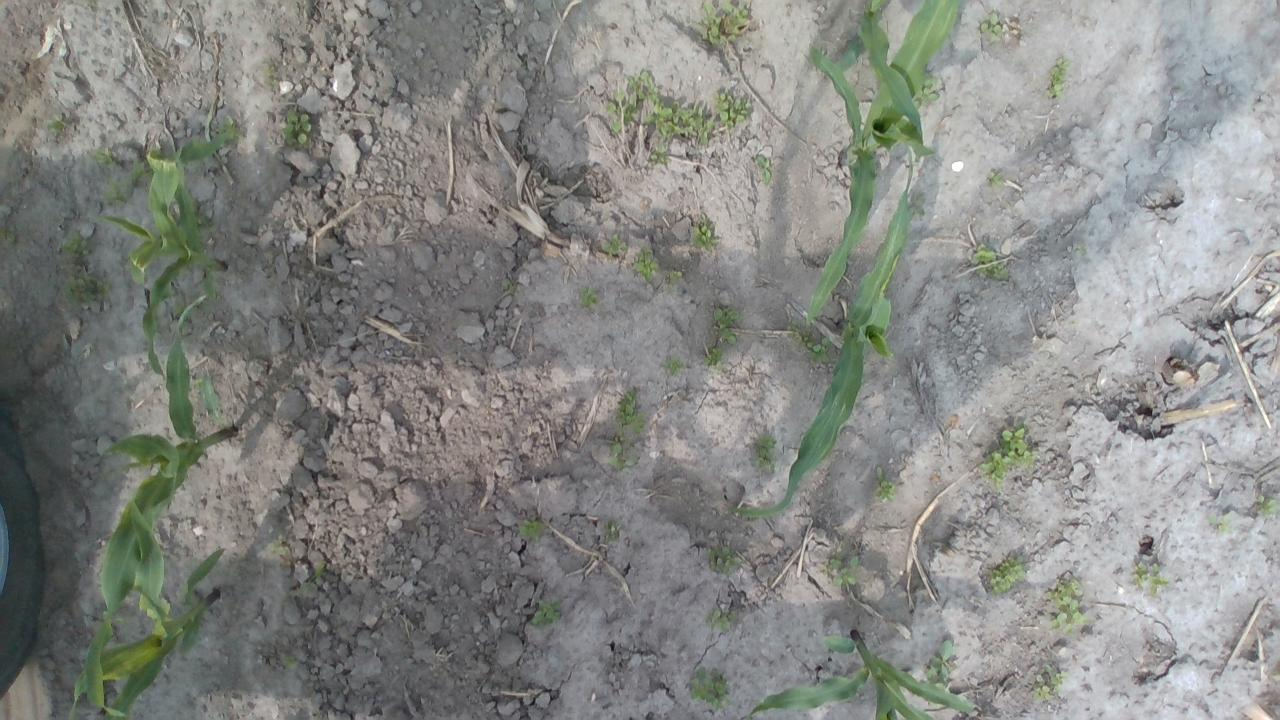Maize: (722, 144, 919, 520), (804, 0, 968, 329), (98, 291, 241, 624), (102, 114, 230, 380), (71, 547, 228, 720), (732, 629, 976, 719)
Weeds: (602, 68, 754, 165), (610, 388, 646, 468), (60, 235, 102, 303), (984, 428, 1034, 483), (698, 0, 756, 47), (1045, 578, 1085, 629), (706, 308, 738, 364), (690, 669, 730, 706), (791, 325, 829, 362), (986, 556, 1022, 594), (1032, 668, 1068, 704), (972, 247, 1008, 274), (828, 558, 859, 587), (1131, 564, 1163, 590), (298, 570, 330, 596), (530, 600, 559, 628), (1048, 56, 1067, 96), (751, 437, 774, 470), (910, 78, 937, 105), (514, 519, 546, 541), (632, 254, 659, 278), (695, 219, 719, 246), (283, 114, 306, 141), (705, 552, 736, 572), (980, 12, 1002, 38), (709, 612, 737, 632), (755, 155, 773, 179), (664, 356, 688, 373), (603, 238, 625, 256), (1256, 498, 1278, 516), (879, 481, 897, 501), (48, 116, 68, 134), (1209, 518, 1227, 532), (581, 289, 594, 304), (270, 544, 282, 554)
